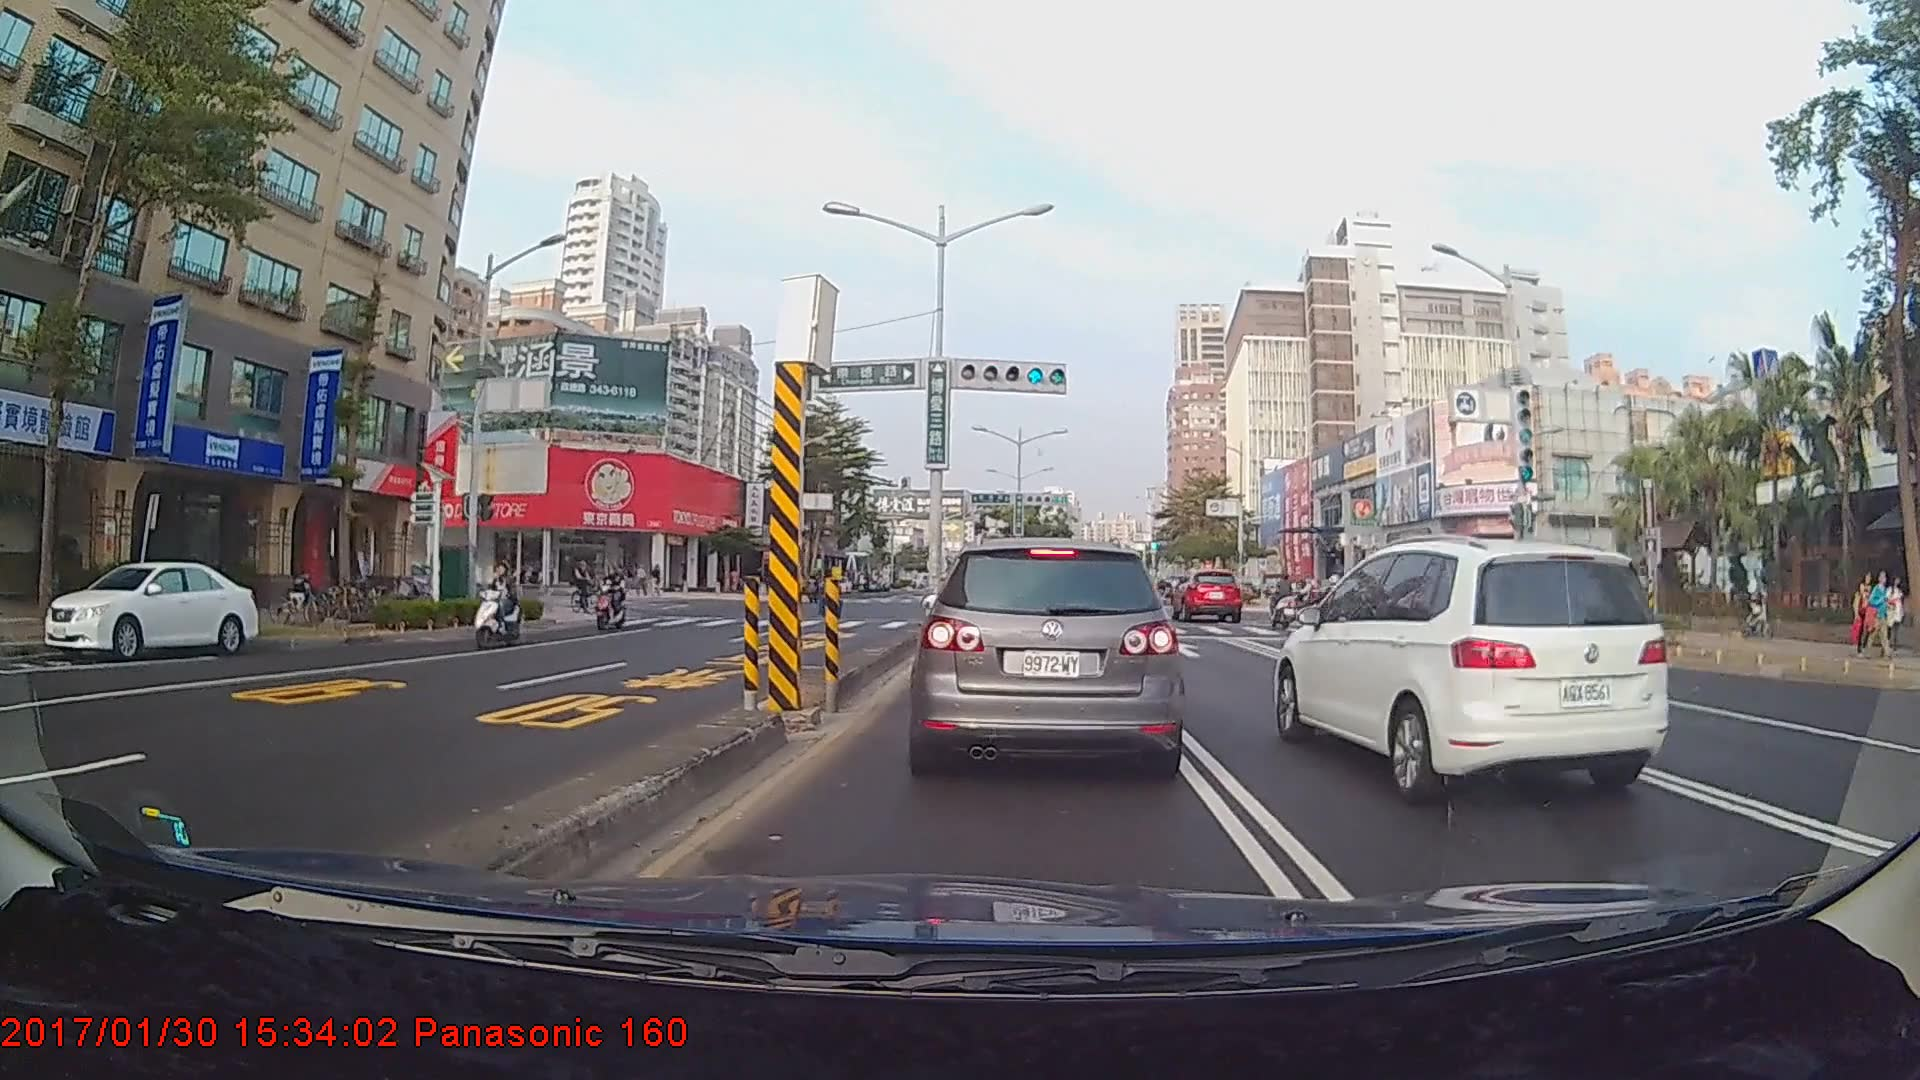pedestrian: (1866, 572, 1893, 662), (1852, 574, 1880, 658), (1882, 573, 1906, 658)
rider: (465, 559, 532, 653), (1737, 560, 1776, 643), (595, 568, 634, 634), (1266, 570, 1308, 628), (574, 556, 607, 620)
vehicle: (1274, 529, 1676, 815), (916, 532, 1181, 772), (46, 558, 254, 662), (1171, 569, 1242, 622)
